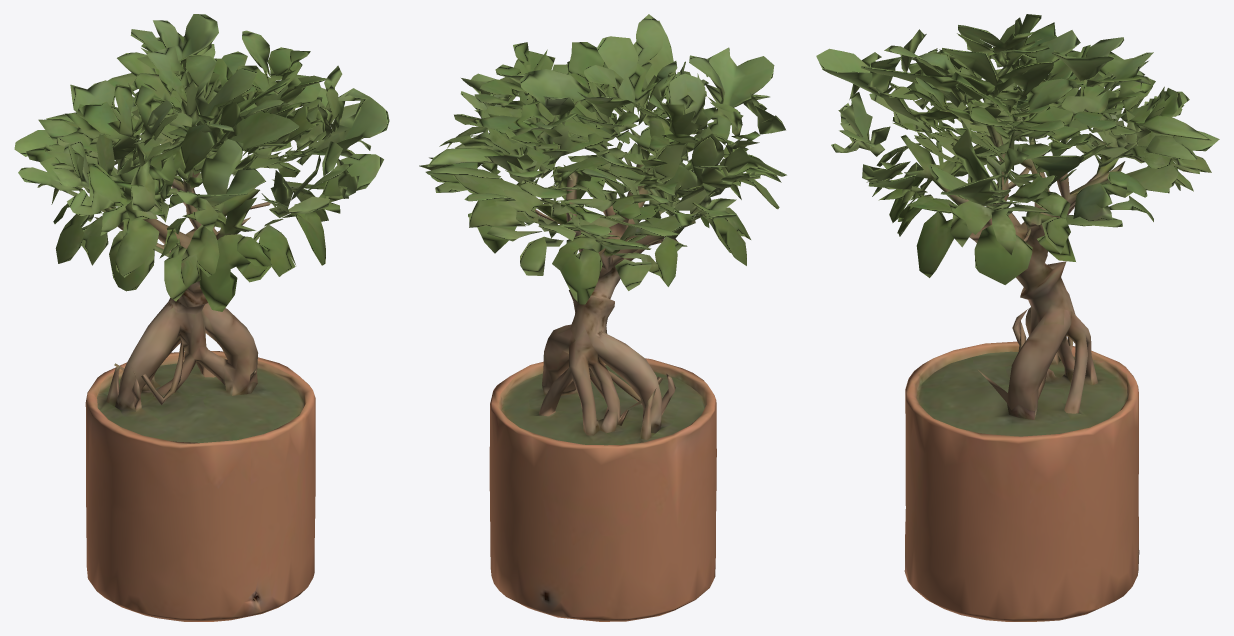
Rendered from pot_bonsai.glb.
3 renders of one model, left to right at view 1: azimuth 30°, elevation 25°; view 2: azimuth 150°, elevation 25°; view 3: azimuth 270°, elevation 25°, orthographic. The views are drawn at different scales.
Visible parts, largest first — view 1: tripo_node_e0f0a94f-5483-48f9-ae58-18fb5e5d4d31; view 2: tripo_node_e0f0a94f-5483-48f9-ae58-18fb5e5d4d31; view 3: tripo_node_e0f0a94f-5483-48f9-ae58-18fb5e5d4d31.
Boxes of the visible parts, box(x1,y1,x2,y2) form: tripo_node_e0f0a94f-5483-48f9-ae58-18fb5e5d4d31: box(14, 14, 389, 621); tripo_node_e0f0a94f-5483-48f9-ae58-18fb5e5d4d31: box(419, 14, 786, 621); tripo_node_e0f0a94f-5483-48f9-ae58-18fb5e5d4d31: box(816, 14, 1219, 621).
Bounding box in the file's own units: 0.6438 × 0.9992 × 0.6732.
1 material, 1 textured.
